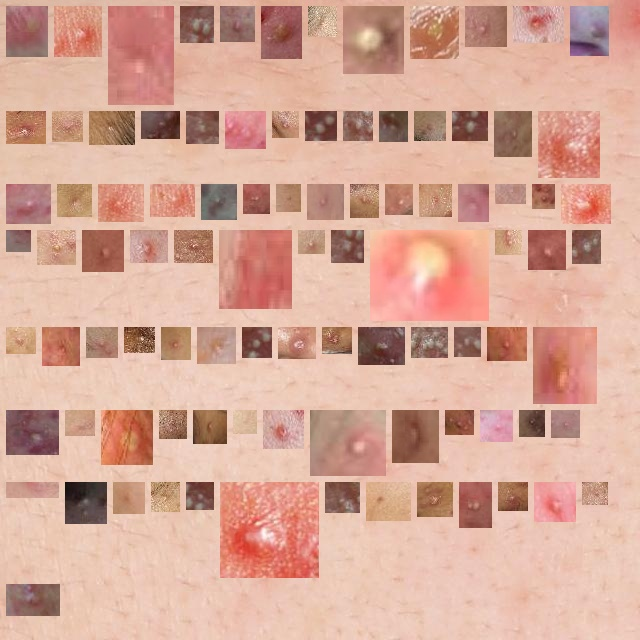pustule: (378, 238, 481, 313), (228, 490, 311, 570), (116, 14, 166, 97), (227, 238, 286, 301), (541, 335, 589, 400), (318, 418, 378, 468), (546, 119, 592, 170), (351, 14, 396, 66), (109, 418, 145, 457), (62, 14, 101, 49), (418, 14, 451, 51), (400, 418, 431, 455), (14, 418, 51, 447), (578, 14, 608, 48), (269, 14, 294, 51), (14, 14, 40, 49), (569, 192, 603, 216), (521, 12, 556, 35), (14, 192, 43, 216), (366, 335, 397, 357), (90, 238, 116, 264), (73, 490, 99, 516), (374, 490, 403, 513), (502, 119, 524, 149), (106, 192, 136, 214), (473, 14, 499, 39), (542, 490, 568, 514), (14, 592, 52, 608), (271, 418, 296, 441), (233, 119, 258, 141), (97, 119, 127, 137), (536, 238, 558, 262), (467, 490, 484, 520), (50, 335, 72, 358), (158, 192, 187, 209), (205, 335, 228, 356), (45, 238, 68, 257), (495, 335, 519, 353), (315, 192, 336, 212), (14, 119, 38, 136), (209, 192, 229, 212), (182, 238, 205, 255), (228, 14, 247, 34), (425, 490, 445, 509), (188, 14, 206, 35), (138, 238, 160, 255), (286, 335, 308, 351), (466, 192, 481, 214), (201, 418, 219, 436), (65, 192, 84, 209), (419, 335, 440, 350), (194, 119, 211, 136), (427, 192, 444, 209), (339, 238, 356, 255), (333, 490, 352, 505), (460, 119, 480, 133), (149, 119, 172, 131), (488, 418, 505, 434), (121, 490, 137, 506), (94, 335, 110, 350), (169, 335, 183, 352), (358, 192, 371, 210), (580, 238, 593, 256), (60, 119, 75, 134), (313, 119, 329, 133), (422, 119, 438, 133), (506, 490, 520, 506), (132, 331, 147, 345), (250, 335, 264, 350), (351, 119, 365, 133), (73, 418, 87, 432), (316, 14, 329, 29), (387, 119, 400, 134), (159, 490, 172, 504), (393, 192, 405, 207), (167, 418, 179, 431), (559, 418, 572, 430), (251, 192, 262, 206), (14, 335, 28, 346), (330, 335, 344, 346), (462, 335, 473, 349), (194, 490, 206, 502), (280, 119, 291, 130), (453, 418, 466, 427), (527, 418, 537, 429), (284, 192, 293, 204), (503, 238, 514, 247), (306, 238, 317, 246), (590, 490, 600, 497), (241, 418, 249, 426), (540, 192, 547, 201), (14, 238, 23, 244)
